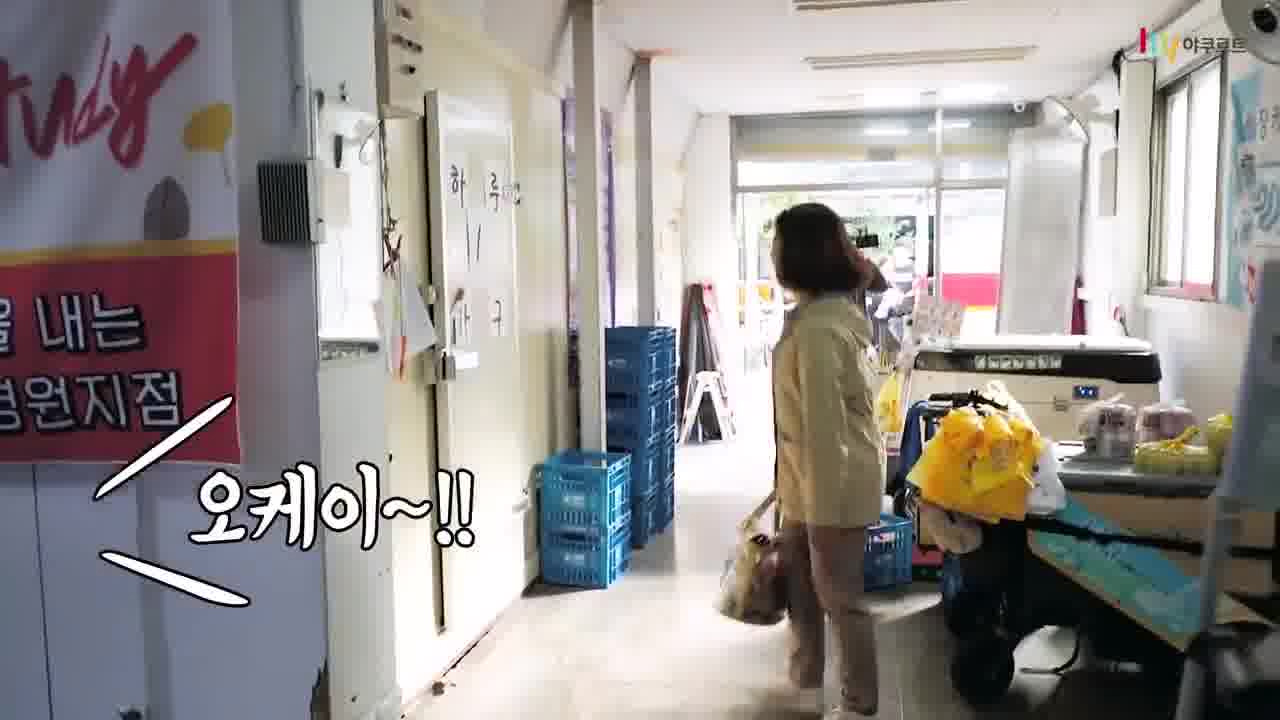Yakurut: (708, 199, 936, 720)
